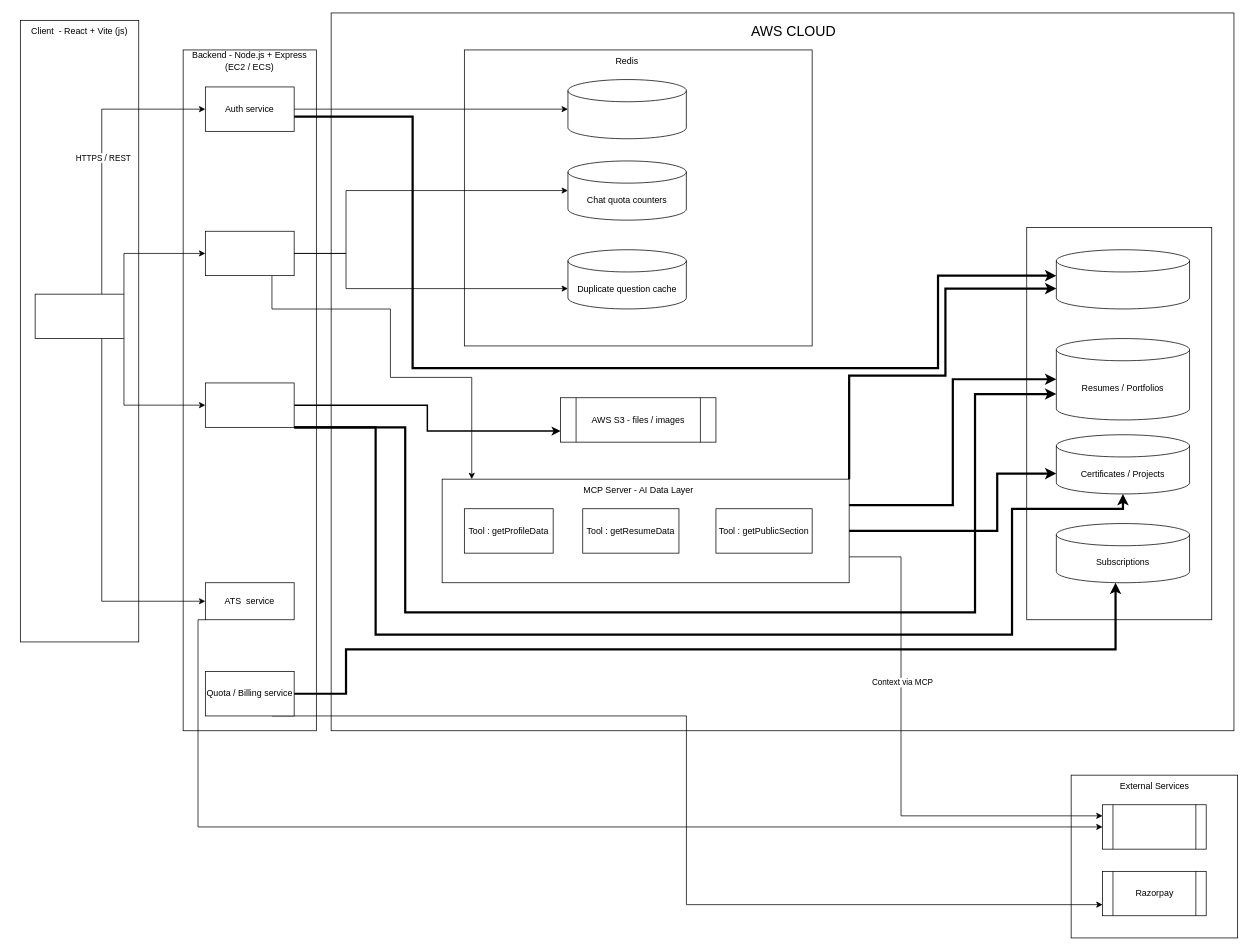
This 1251x951 diagram has some shape labels left out. Each missing label, with the box of its shape:
Chatbot service: (205, 231, 294, 276)
Google Gemini API: (1102, 804, 1206, 849)
Portfolio / Resume service: (205, 382, 294, 427)
Session store: (567, 79, 686, 139)
Student page: (34, 293, 124, 339)
Users / Profiles: (1056, 249, 1190, 309)
